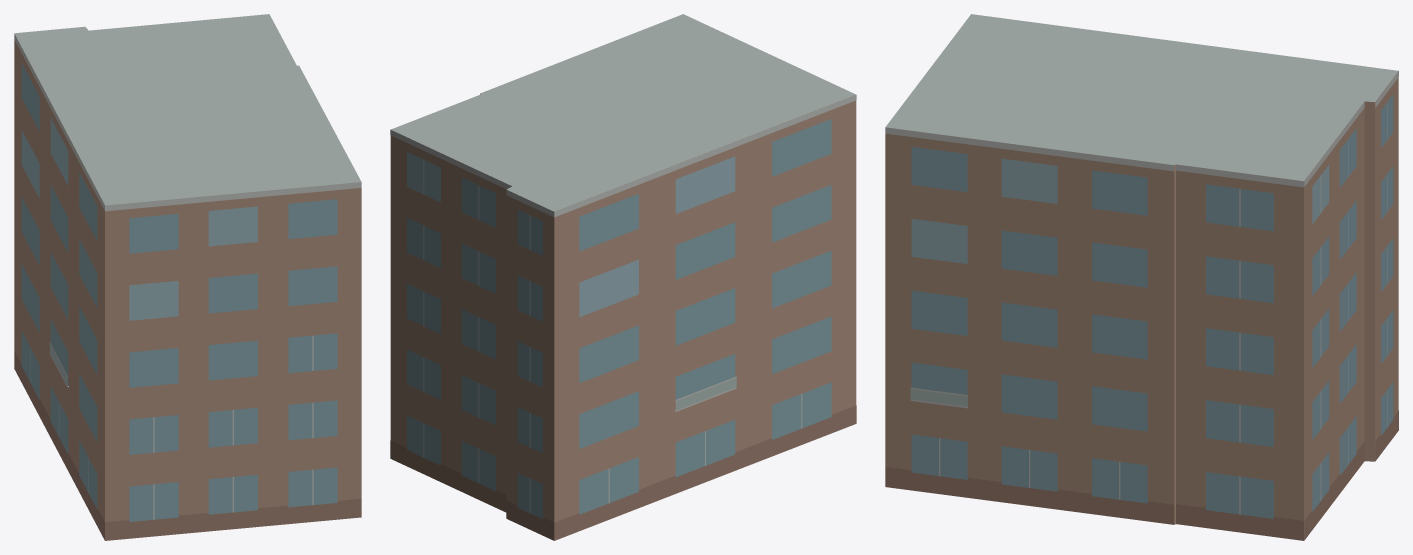
Rendered from survey-upis-32982015.glb.
3 renders of one model, left to right at view 1: azimuth 30°, elevation 25°; view 2: azimuth 150°, elevation 25°; view 3: azimuth 270°, elevation 25°, orthographic. The views are drawn at different scales.
Parts seen in each view (by area): view 1: survey-upis-32982015.tmp; view 2: survey-upis-32982015.tmp; view 3: survey-upis-32982015.tmp.
Boxes of the visible parts, x1,y1,x2,y2 form: survey-upis-32982015.tmp: (14, 14, 361, 540); survey-upis-32982015.tmp: (390, 14, 856, 540); survey-upis-32982015.tmp: (885, 14, 1398, 540).
Bounding box in the file's own units: 14.17 × 14.2 × 18.39.
